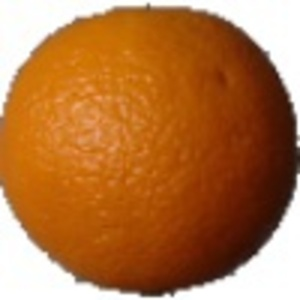laranja: (2, 1, 299, 297)
